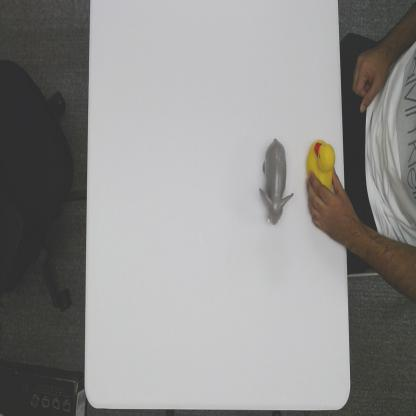Duck: (306, 134, 336, 198)
Elephant: (259, 136, 295, 227)
Hand: (305, 162, 347, 242)
